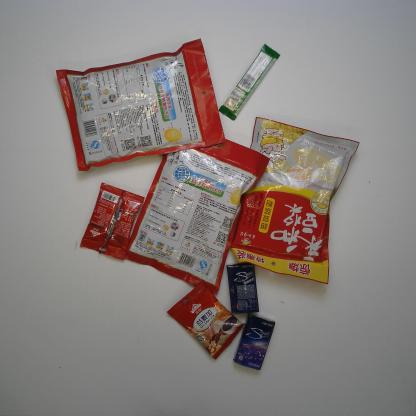Chocolate: (219, 42, 280, 122)
Gum: (233, 312, 275, 370), (226, 262, 260, 314)
Instant Drink: (124, 135, 270, 295), (55, 38, 227, 172), (230, 117, 360, 285), (166, 281, 245, 360), (80, 182, 144, 261)
